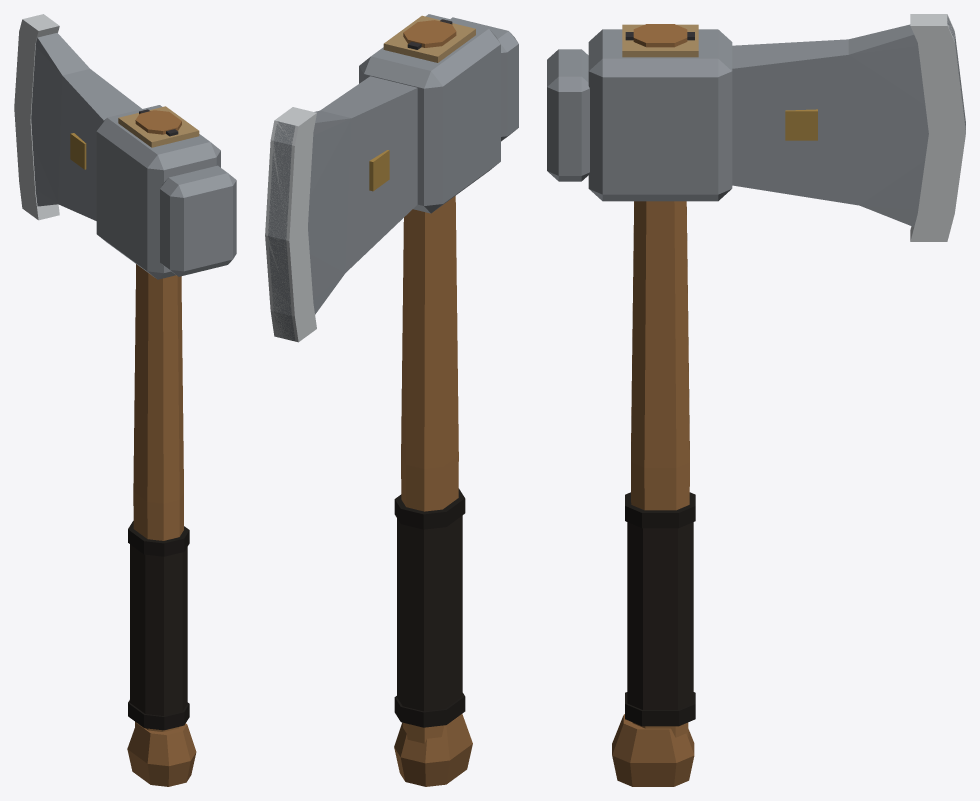
The model's file is SteelAxe.glb.
The picture shows the model from 3 angles, left to right: view 1: azimuth 30°, elevation 25°; view 2: azimuth 150°, elevation 25°; view 3: azimuth 270°, elevation 25°; orthographic projection. The views are drawn at different scales.
Parts seen in each view (by area): view 1: Head, Handle; view 2: Head, Handle; view 3: Head, Handle.
Part boxes in pixels (bbox=[...]): Head: bbox=[14, 14, 236, 279]; Handle: bbox=[118, 106, 199, 786]; Head: bbox=[265, 14, 518, 342]; Handle: bbox=[383, 15, 475, 786]; Head: bbox=[547, 14, 965, 241]; Handle: bbox=[612, 24, 698, 786].
Size of the model in its own units: 0.4452 by 3.82 by 1.92.
